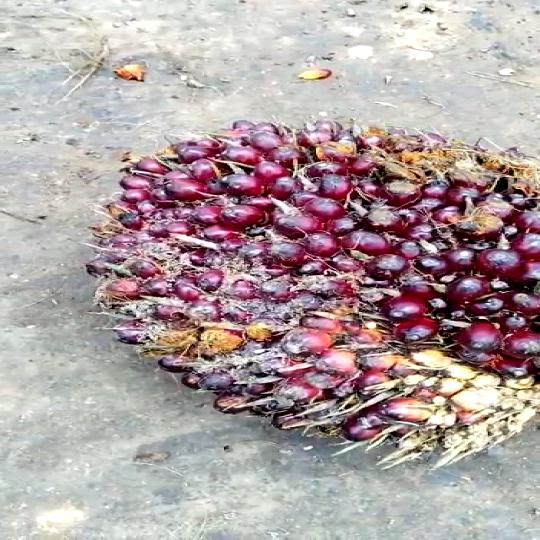kurang masak: (81, 106, 540, 473)
